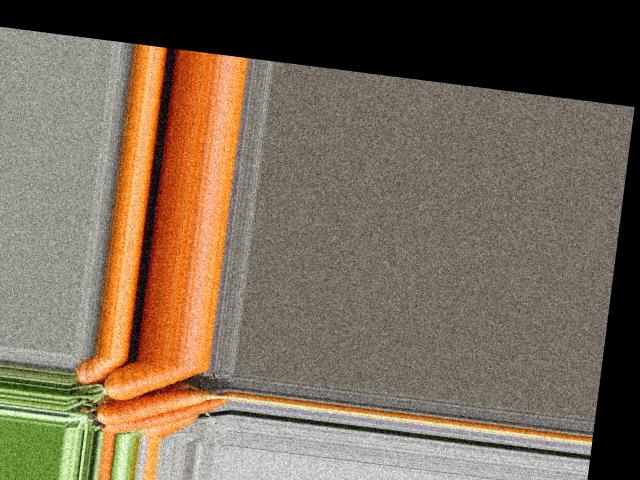carrot: (95, 355, 138, 391)
